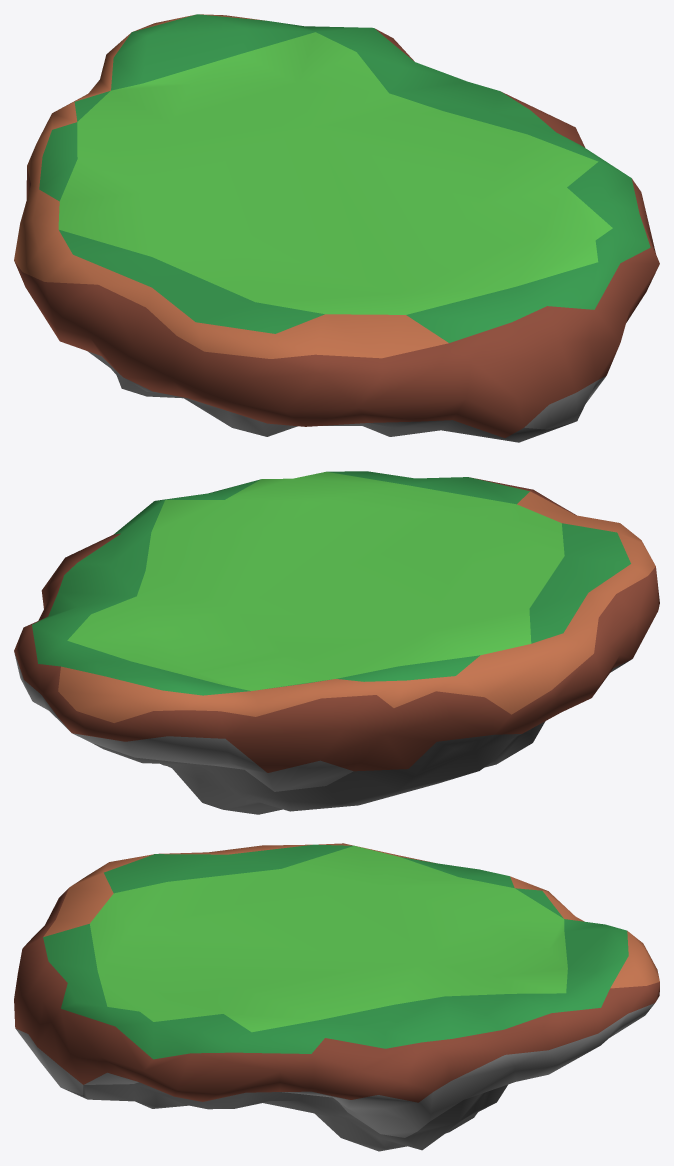
The model's file is Platform2.glb.
The picture shows the model from 3 angles, top to bottom: view 1: azimuth 30°, elevation 25°; view 2: azimuth 150°, elevation 25°; view 3: azimuth 270°, elevation 25°; orthographic projection. The views are drawn at different scales.
Parts seen in each view (by area): view 1: Icosphere; view 2: Icosphere; view 3: Icosphere.
Boxes of the visible parts, x1,y1,x2,y2 form: Icosphere: (14, 14, 659, 442); Icosphere: (14, 471, 659, 814); Icosphere: (14, 843, 659, 1151).
Size of the model in its own units: 32.3 by 13.9 by 39.67.
1 material, 1 textured.
